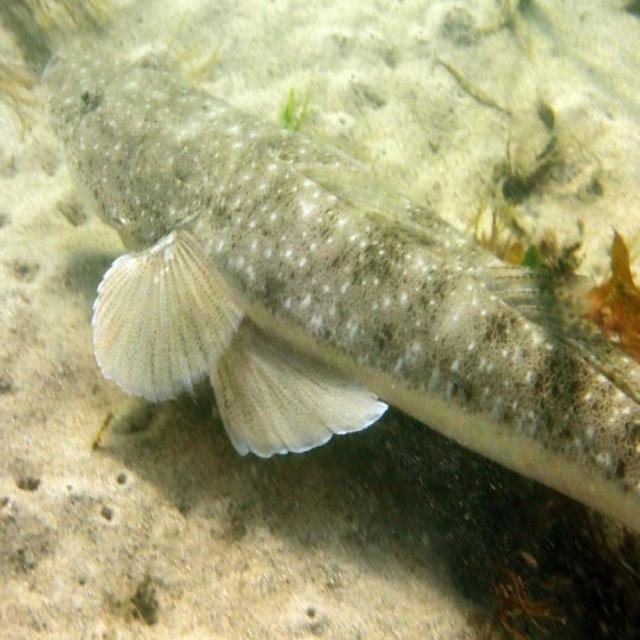Flathead: (31, 30, 640, 566)
